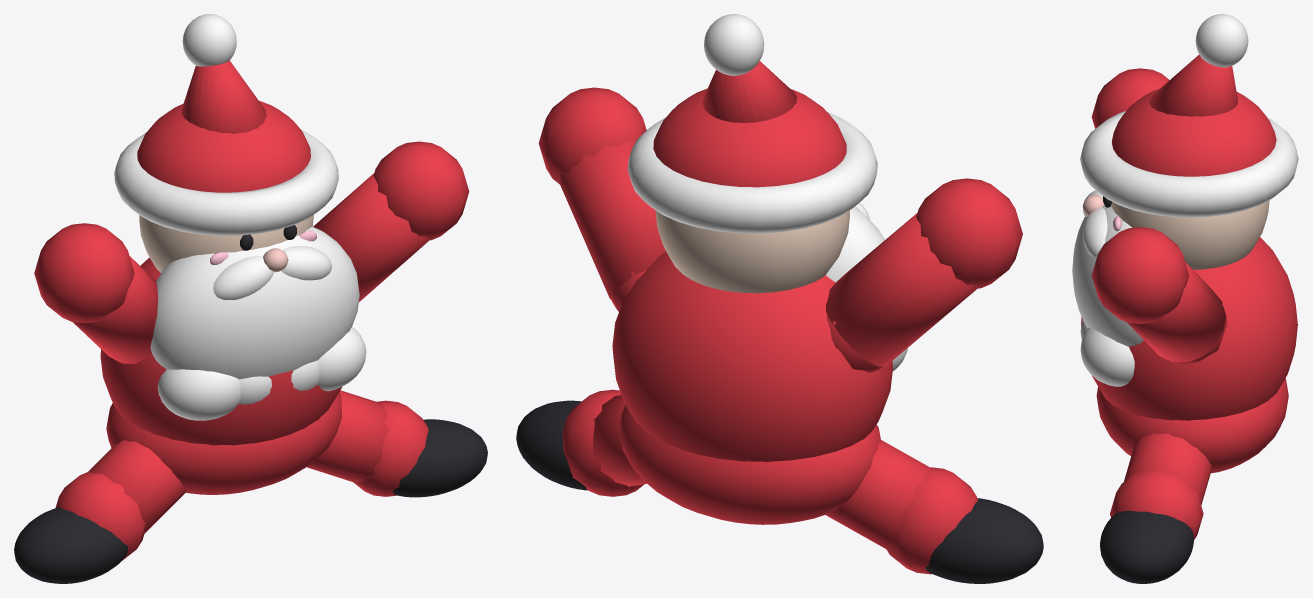
Rendered from star.glb.
3 renders of one model, left to right at view 1: azimuth 30°, elevation 25°; view 2: azimuth 150°, elevation 25°; view 3: azimuth 270°, elevation 25°, orthographic. The views are drawn at different scales.
Parts seen in each view (by area): view 1: star_red, star_white, star_black, star_skin; view 2: star_red, star_white, star_black, star_skin; view 3: star_red, star_white, star_black, star_skin, star_nose.
Boxes of the visible parts, x1,y1,x2,y2 form: star_red: [34, 60, 469, 561]; star_white: [114, 14, 366, 420]; star_black: [14, 225, 487, 583]; star_skin: [139, 215, 313, 272]; star_red: [538, 61, 1022, 574]; star_white: [627, 14, 907, 371]; star_black: [516, 400, 1043, 583]; star_skin: [655, 210, 849, 293]; star_red: [1081, 54, 1297, 539]; star_white: [1072, 14, 1298, 386]; star_black: [1100, 196, 1193, 583]; star_skin: [1111, 200, 1269, 269]; star_nose: [1082, 195, 1104, 215].
Size of the model in its own units: 3.19 by 3.21 by 1.39.
